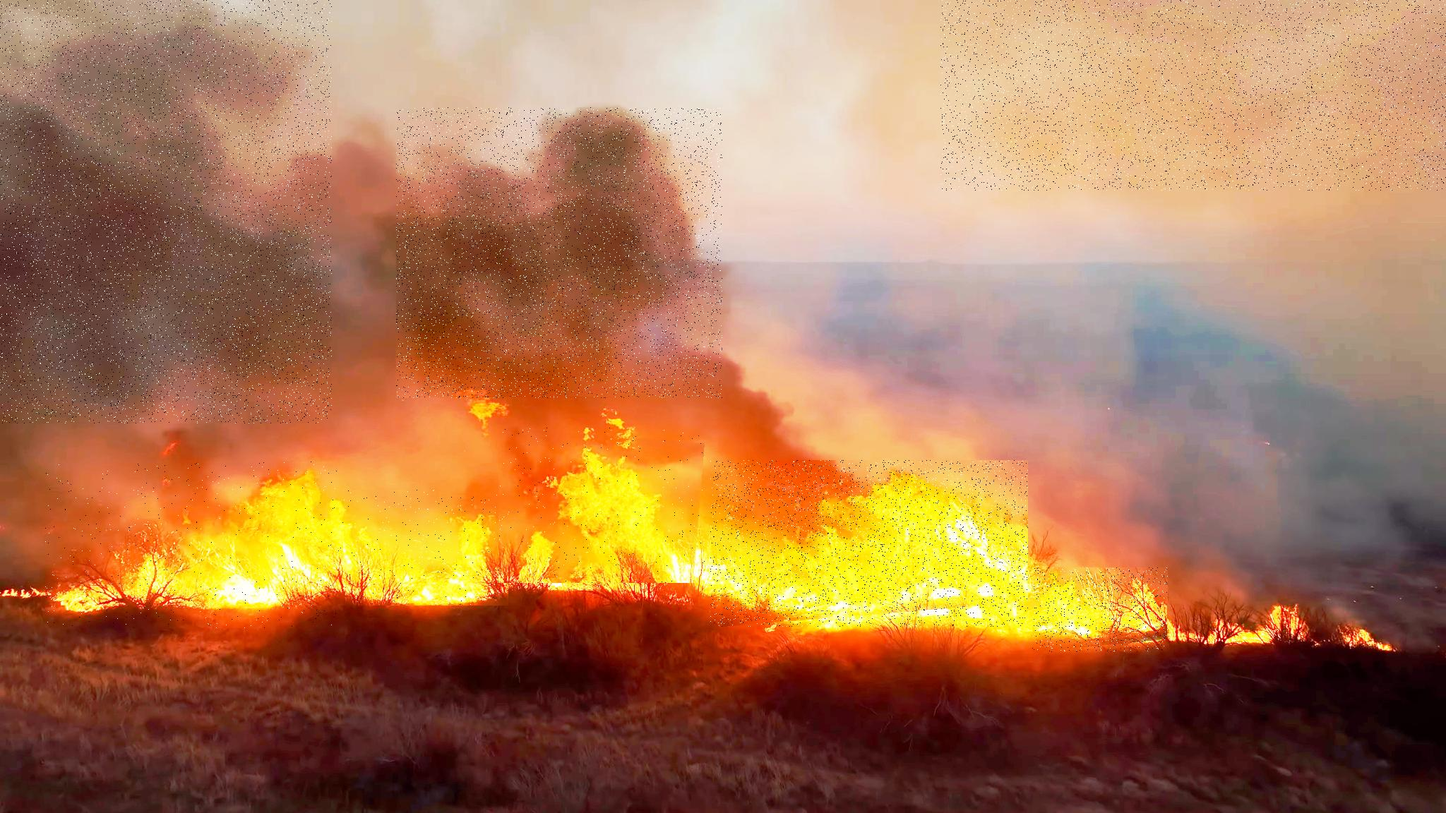fire: (710, 460, 1028, 627), (45, 462, 337, 628), (498, 428, 705, 583), (292, 490, 508, 606), (1032, 567, 1168, 652)
smoke: (0, 0, 332, 423), (940, 0, 1446, 191), (396, 107, 722, 398)
